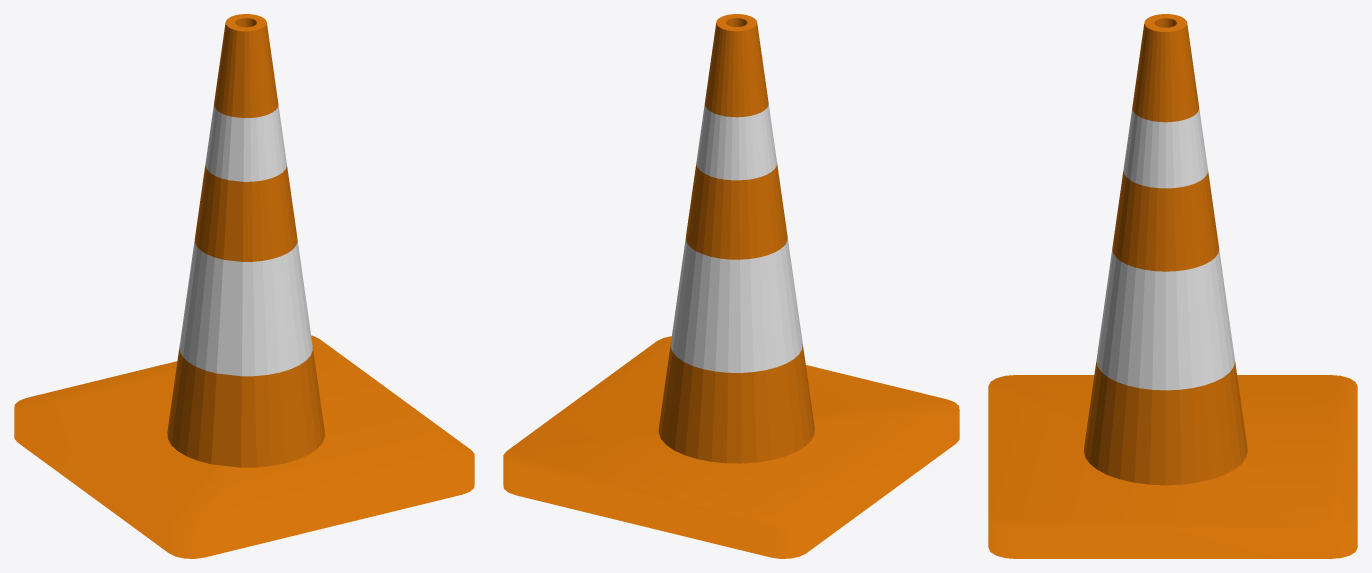
3 renders of one model, left to right at view 1: azimuth 30°, elevation 25°; view 2: azimuth 150°, elevation 25°; view 3: azimuth 270°, elevation 25°, orthographic. The views are drawn at different scales.
Parts seen in each view (by area): view 1: cono; view 2: cono; view 3: cono.
Part boxes in pixels (x1,y1,x2,y2): cono: (14,14,474,558); cono: (503,14,959,558); cono: (988,14,1357,558).
Size of the model in its own units: 168 by 234 by 171.
